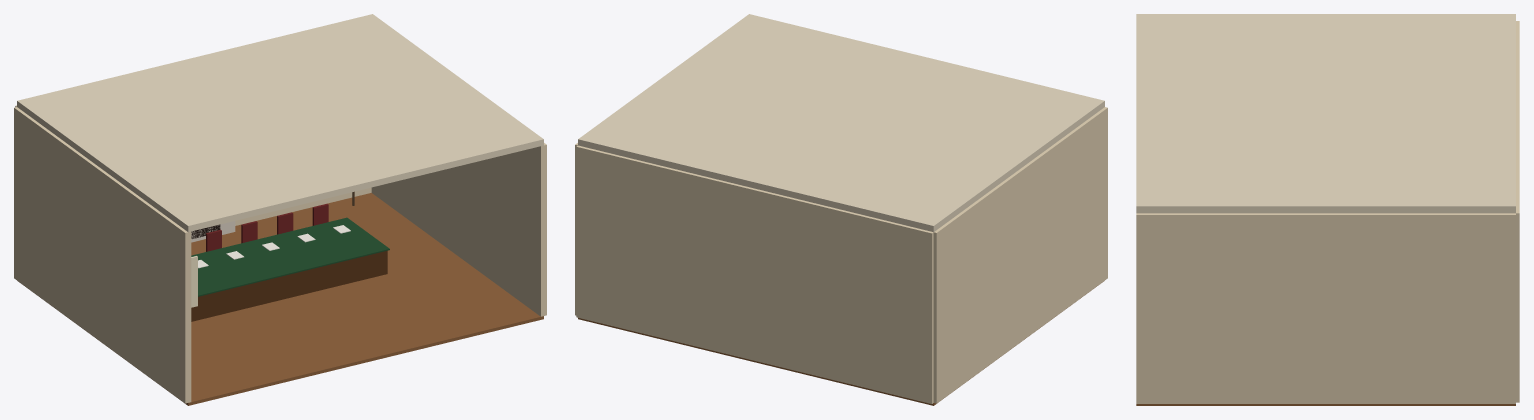
The model's file is sala_rady.glb.
3 renders of one model, left to right at view 1: azimuth 30°, elevation 25°; view 2: azimuth 150°, elevation 25°; view 3: azimuth 270°, elevation 25°, orthographic. The views are drawn at different scales.
Visible parts, largest first — view 1: sala_rady; view 2: sala_rady; view 3: sala_rady.
Boxes of the visible parts, x1,y1,x2,y2 form: sala_rady: (14, 14, 546, 405); sala_rady: (575, 14, 1107, 405); sala_rady: (1136, 14, 1519, 405).
Size of the model in its own units: 12.2 by 5.8 by 10.1.
